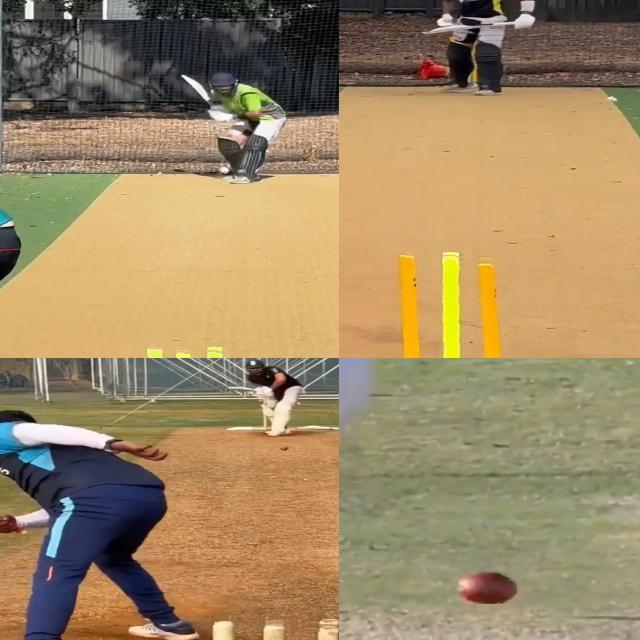Cricket ball: (459, 568, 522, 604), (216, 165, 232, 175), (604, 96, 618, 102), (280, 446, 290, 451)
Stumps: (380, 250, 508, 358)
